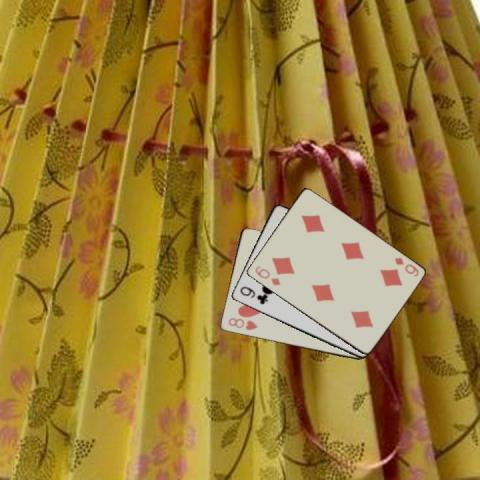6d: (252, 262, 281, 286), (391, 255, 420, 278)
8h: (226, 315, 260, 332)
9c: (237, 284, 269, 306)
